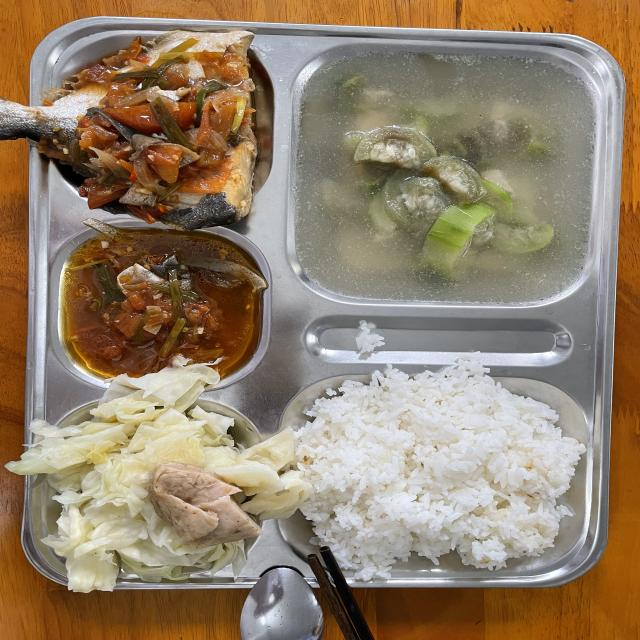ca_kho: (87, 57, 258, 218), (95, 241, 241, 372)
com_trang: (319, 398, 575, 560)
